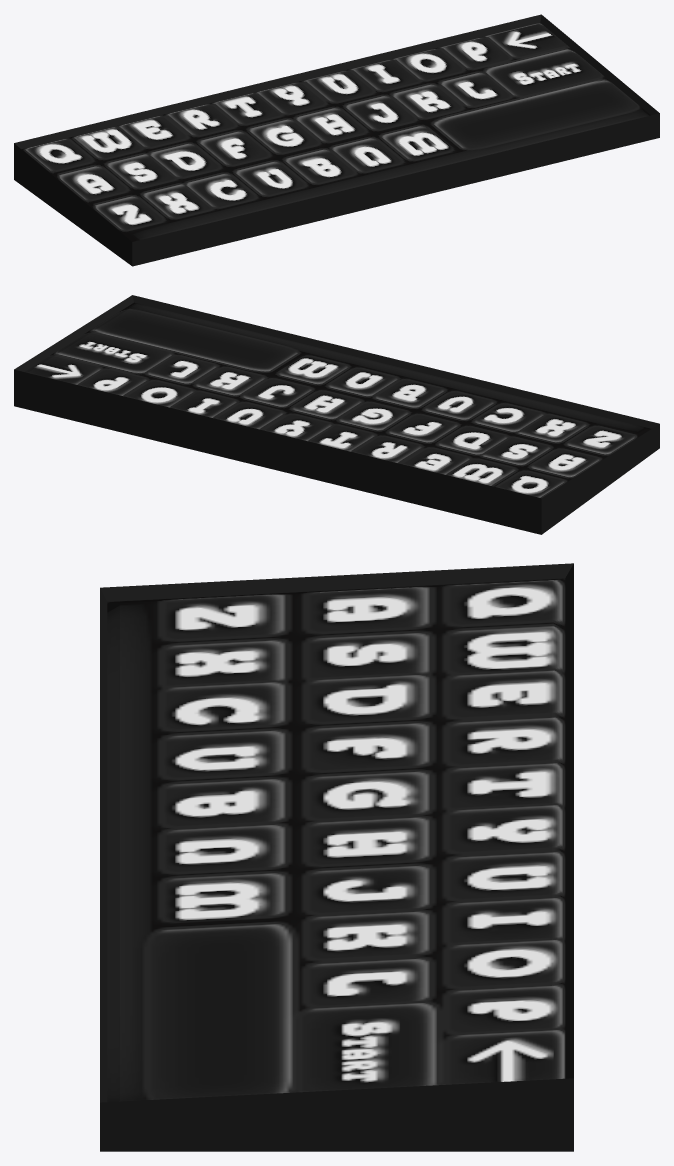
Rendered from Keyboard.FBX.
3 views of the same model, one above another, from view 1: azimuth 30°, elevation 25°; view 2: azimuth 150°, elevation 25°; view 3: azimuth 270°, elevation 25° (orthographic). The views are drawn at different scales.
Parts seen in each view (by area): view 1: Keyboard; view 2: Keyboard; view 3: Keyboard.
Part boxes in pixels (x1,y1,x2,y2): Keyboard: (14, 14, 659, 266); Keyboard: (14, 295, 659, 534); Keyboard: (100, 563, 573, 1151).
Bounding box in the file's own units: 90 × 5.98 × 35.
